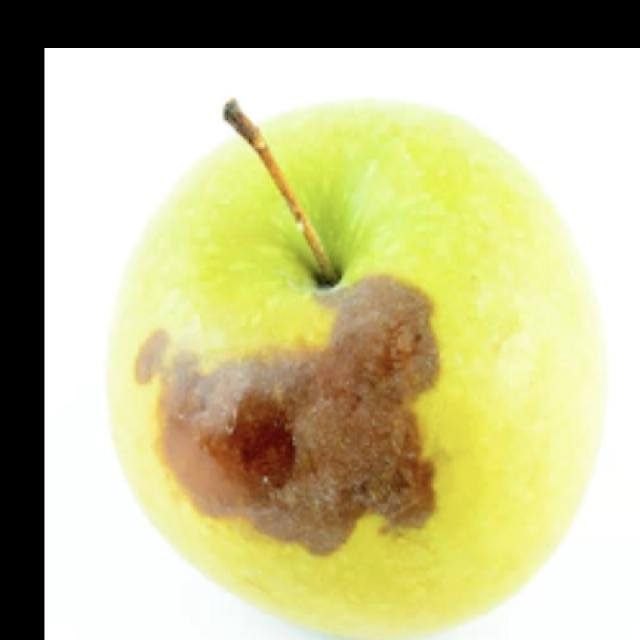Rotten: (134, 109, 584, 574)
